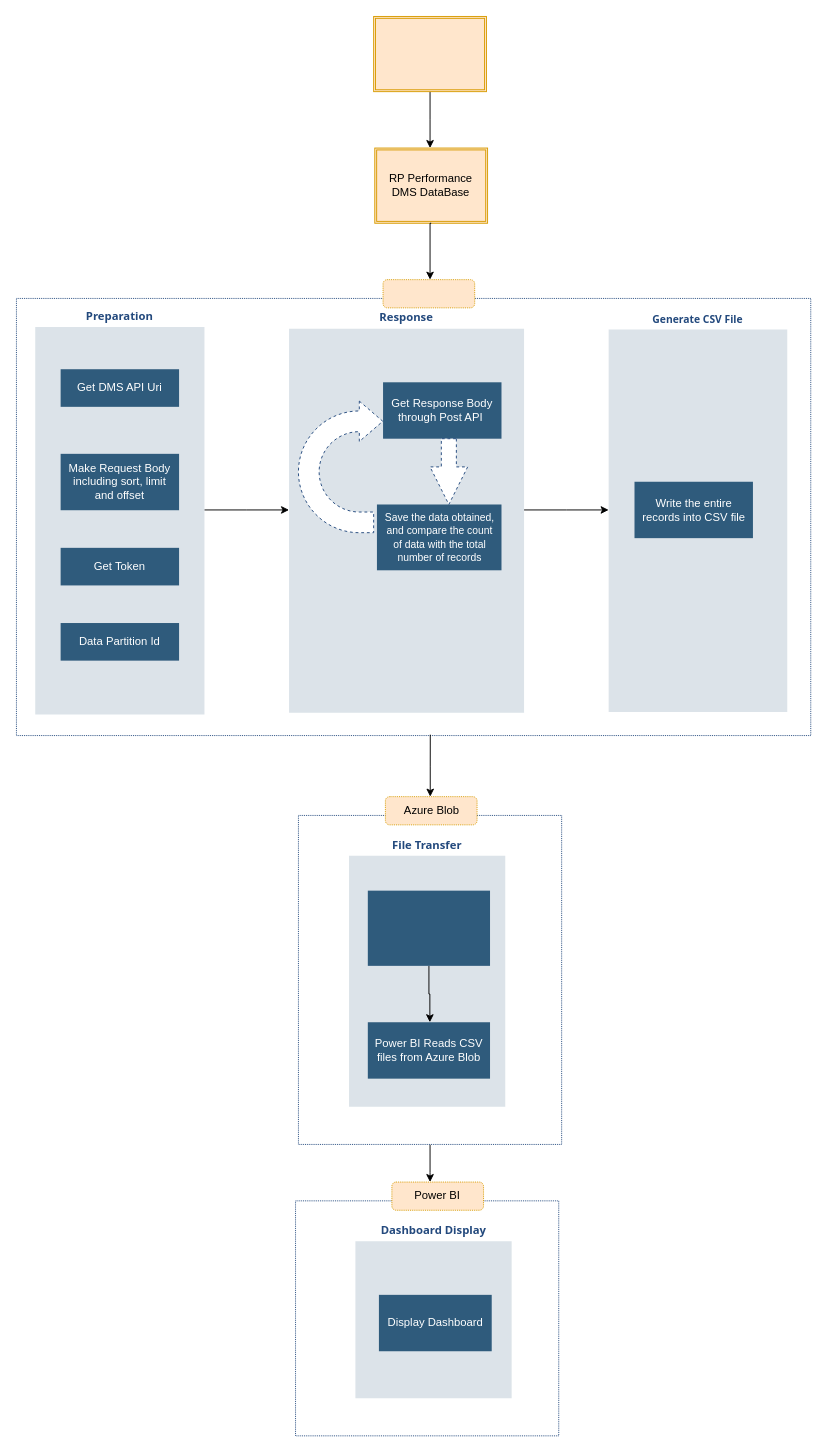
The diagram is 827 pixels wide and 1452 high, and some of its shapes have lost their labels. The shapes that lost their labels are listed below. From the top down, each one's centre as x and y in pixels, then its label:
(x=429, y=54): Tallix DataBase
(x=428, y=293): Processors
(x=336, y=466): Repeat until we get total records
(x=428, y=927): Processors Upload the CSV files to the Azure Blob
